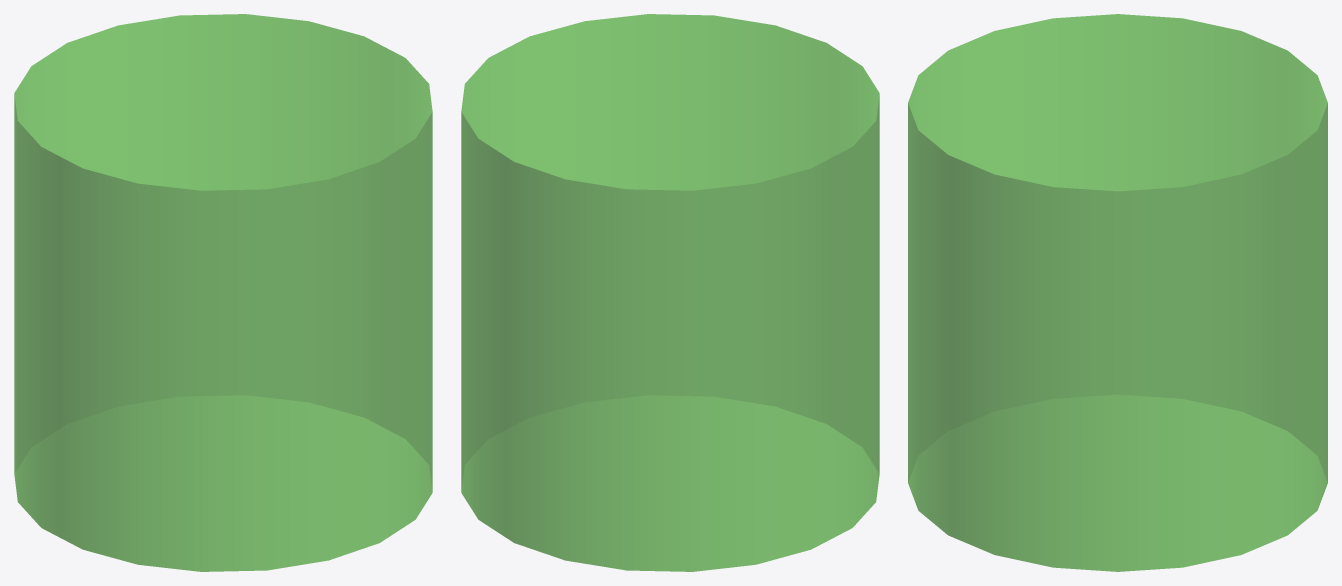
Rendered from Cilindar_V001.fbx.
3 renders of one model, left to right at view 1: azimuth 30°, elevation 25°; view 2: azimuth 150°, elevation 25°; view 3: azimuth 270°, elevation 25°, orthographic.
Visible parts, largest first — view 1: polySurface1, polySurface2, polySurface3; view 2: polySurface1, polySurface2, polySurface3; view 3: polySurface1, polySurface2, polySurface3.
Part boxes in pixels (x1=…): polySurface1: x1=14, y1=14, x2=432, y2=571; polySurface2: x1=14, y1=14, x2=432, y2=190; polySurface3: x1=14, y1=395, x2=432, y2=571; polySurface1: x1=461, y1=14, x2=879, y2=571; polySurface2: x1=461, y1=14, x2=879, y2=190; polySurface3: x1=461, y1=395, x2=879, y2=571; polySurface1: x1=908, y1=14, x2=1327, y2=571; polySurface2: x1=908, y1=14, x2=1327, y2=191; polySurface3: x1=908, y1=395, x2=1327, y2=571.
Bounding box in the file's own units: 6.65 × 6.65 × 6.65.
